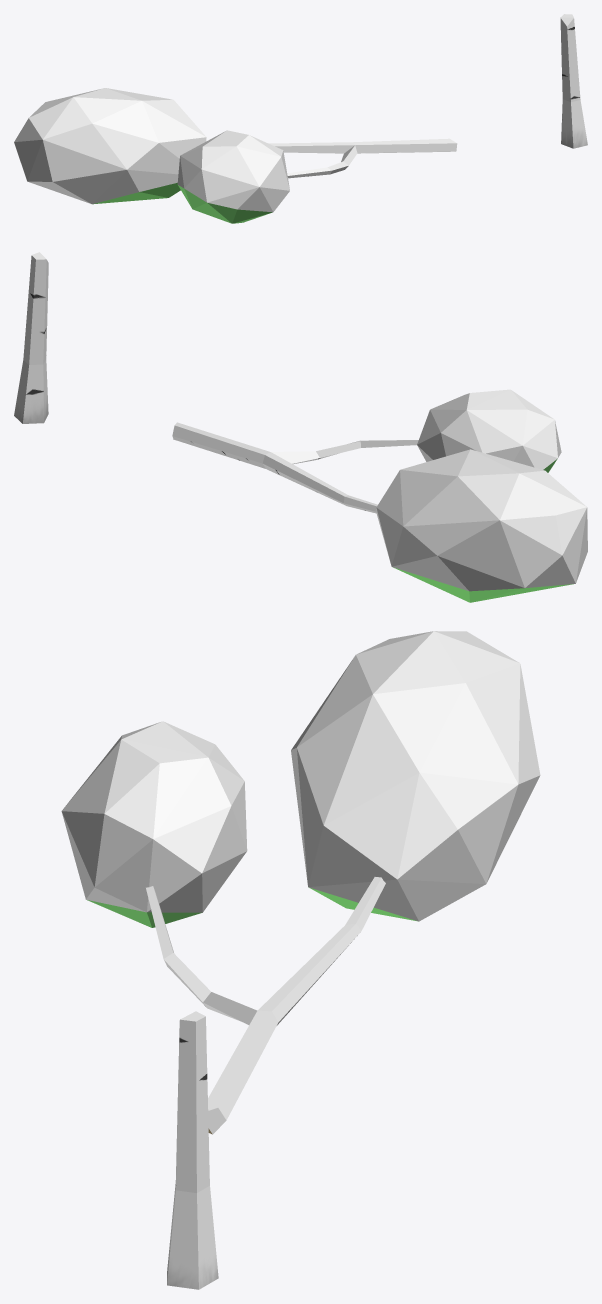
The model's file is Birch_Tree_crk_m_Snow_BT_02.fbx.
3 views of the same model, one above another, from view 1: azimuth 30°, elevation 25°; view 2: azimuth 150°, elevation 25°; view 3: azimuth 270°, elevation 25° (orthographic). The views are drawn at different scales.
Visible parts, largest first — view 1: Birch_Tree_crk_m_Snow_BT_02; view 2: Birch_Tree_crk_m_Snow_BT_02; view 3: Birch_Tree_crk_m_Snow_BT_02.
Boxes of the visible parts, bbox=[...] form: Birch_Tree_crk_m_Snow_BT_02: bbox=[14, 14, 587, 223]; Birch_Tree_crk_m_Snow_BT_02: bbox=[14, 252, 587, 602]; Birch_Tree_crk_m_Snow_BT_02: bbox=[61, 631, 540, 1289].
Bounding box in the file's own units: 956 × 234 × 398.
